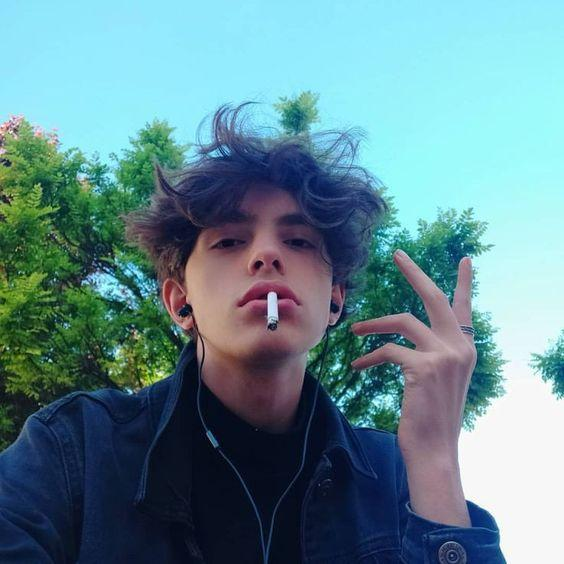cigarette: (267, 290, 278, 331)
